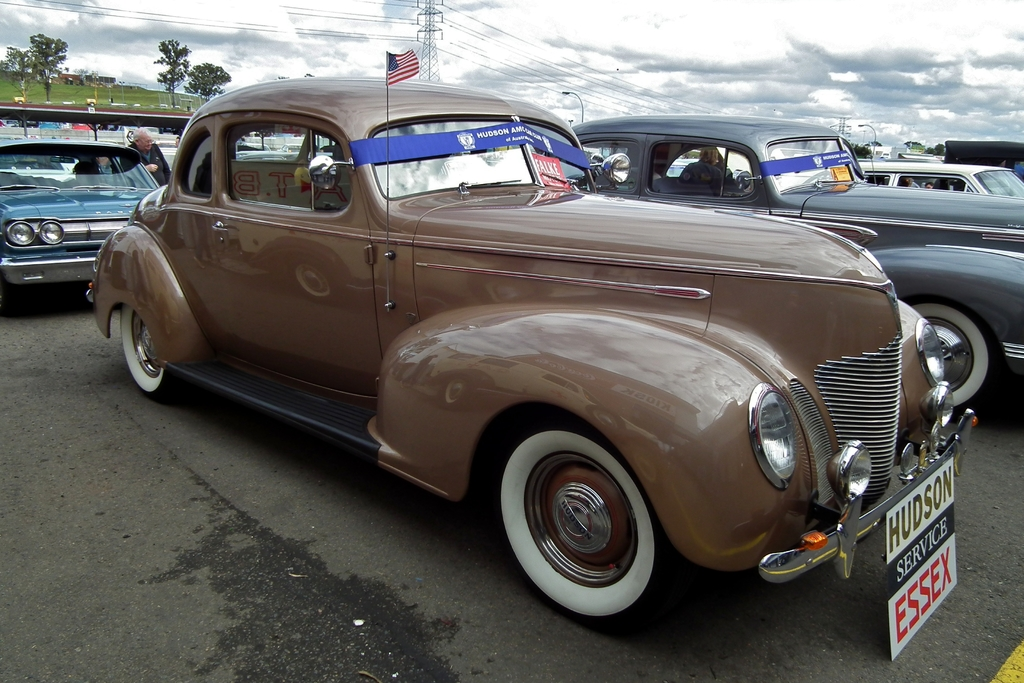Car: (88, 93, 995, 631), (567, 115, 1023, 405), (0, 141, 160, 292), (860, 158, 1023, 199)
